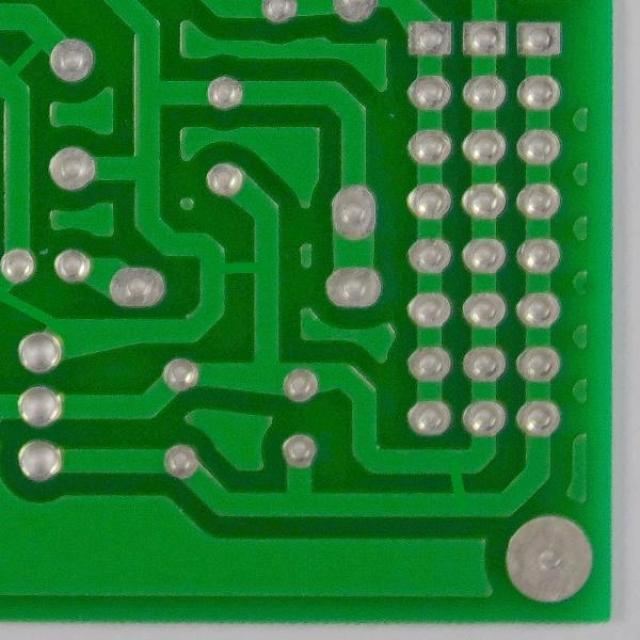Short_Circuit: (428, 444, 487, 522), (193, 248, 285, 294), (0, 275, 64, 336), (5, 26, 53, 85)
